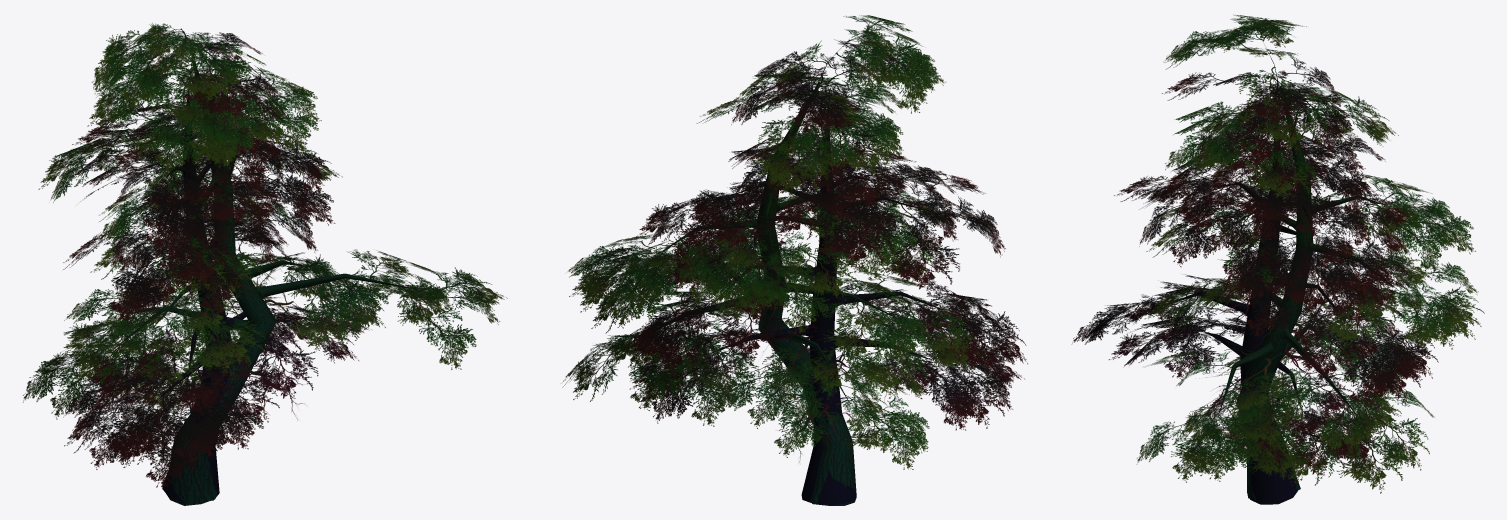
The model's file is Oak_C.glb.
3 renders of one model, left to right at view 1: azimuth 30°, elevation 25°; view 2: azimuth 150°, elevation 25°; view 3: azimuth 270°, elevation 25°, orthographic. The views are drawn at different scales.
Parts seen in each view (by area): view 1: OakTreeC_LOD0; view 2: OakTreeC_LOD0; view 3: OakTreeC_LOD0.
Part boxes in pixels (x1=…): OakTreeC_LOD0: x1=23, y1=23, x2=507, y2=505; OakTreeC_LOD0: x1=561, y1=15, x2=1027, y2=505; OakTreeC_LOD0: x1=1071, y1=15, x2=1484, y2=504.
Size of what is drawn, in the model's own units: 19.06 by 19.77 by 16.74.
2 materials, 2 textured.
